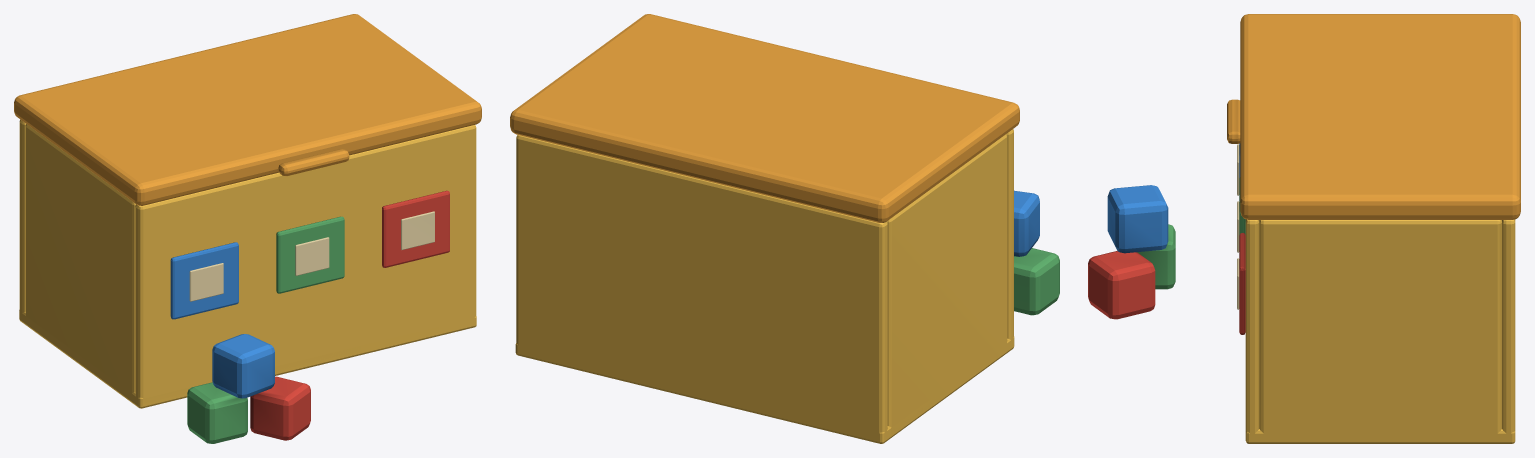
Rendered from toyBox.glb.
3 renders of one model, left to right at view 1: azimuth 30°, elevation 25°; view 2: azimuth 150°, elevation 25°; view 3: azimuth 270°, elevation 25°, orthographic. The views are drawn at different scales.
Parts seen in each view (by area): view 1: body, lid; view 2: body, lid; view 3: body, lid.
Boxes of the visible parts, x1=… form: body: x1=19, y1=119, x2=476, y2=443; lid: x1=14, y1=14, x2=481, y2=205; body: x1=515, y1=129, x2=1059, y2=443; lid: x1=510, y1=14, x2=1019, y2=222; body: x1=1088, y1=143, x2=1515, y2=443; lid: x1=1227, y1=14, x2=1520, y2=219.
Size of the model in its own units: 0.82 by 0.51 by 0.8023.
